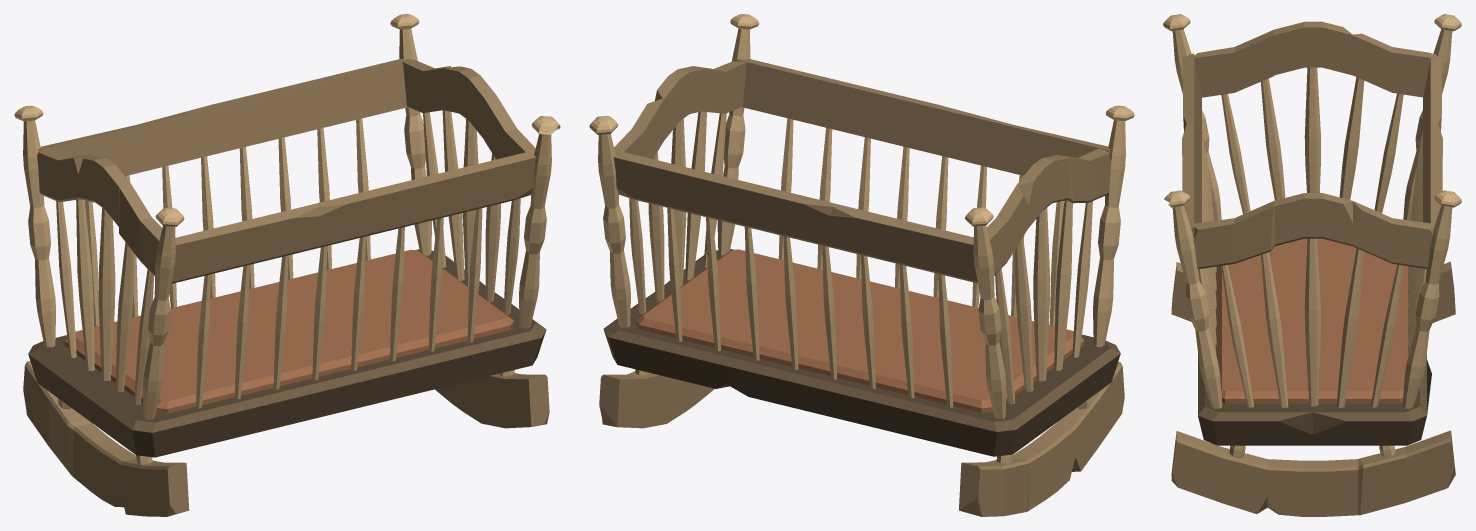
The model's file is WF_LP_HT_Props_Crib.fbx.
The picture shows the model from 3 angles, left to right: view 1: azimuth 30°, elevation 25°; view 2: azimuth 150°, elevation 25°; view 3: azimuth 270°, elevation 25°; orthographic projection. The views are drawn at different scales.
Parts seen in each view (by area): view 1: WF_LP_HT_Props_Crib; view 2: WF_LP_HT_Props_Crib; view 3: WF_LP_HT_Props_Crib.
Boxes of the visible parts, x1=… form: WF_LP_HT_Props_Crib: x1=14, y1=14, x2=560, y2=516; WF_LP_HT_Props_Crib: x1=589, y1=14, x2=1134, y2=516; WF_LP_HT_Props_Crib: x1=1163, y1=14, x2=1461, y2=516.
Size of the model in its own units: 1.2 by 0.9337 by 0.7809.
